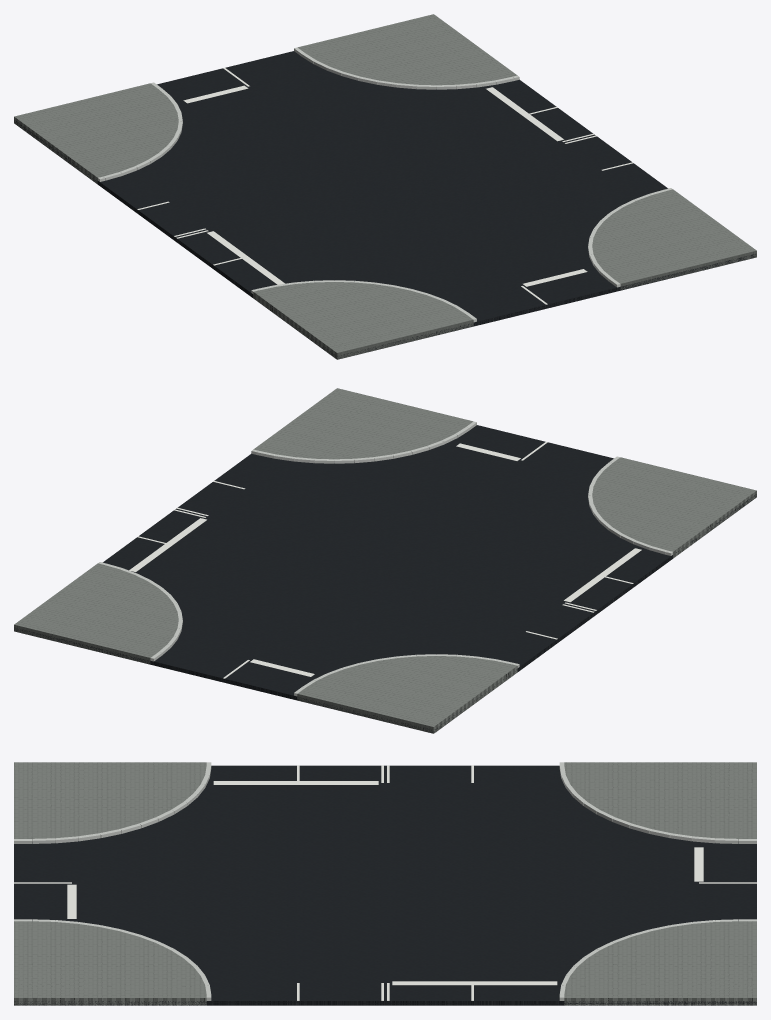
File: RK3_Cross_4x2_Plain_24x32m.glb
3 views of the same model, one above another, from view 1: azimuth 30°, elevation 25°; view 2: azimuth 150°, elevation 25°; view 3: azimuth 270°, elevation 25° (orthographic). The views are drawn at different scales.
Parts seen in each view (by area): view 1: Surface_Asphalt, Sidewalk_Paving, Curb_Concrete, Markings_White; view 2: Surface_Asphalt, Sidewalk_Paving, Curb_Concrete, Markings_White; view 3: Surface_Asphalt, Sidewalk_Paving, Curb_Concrete, Markings_White.
Part boxes in pixels (<box>): Surface_Asphalt: <box>14,51,756,358</box>; Sidewalk_Paving: <box>14,14,756,359</box>; Curb_Concrete: <box>98,47,672,322</box>; Markings_White: <box>137,67,633,304</box>; Surface_Asphalt: <box>14,425,756,732</box>; Sidewalk_Paving: <box>14,388,756,733</box>; Curb_Concrete: <box>98,421,672,696</box>; Markings_White: <box>129,441,641,678</box>; Surface_Asphalt: <box>14,765,756,1005</box>; Sidewalk_Paving: <box>14,762,756,1005</box>; Curb_Concrete: <box>14,762,756,1000</box>; Markings_White: <box>14,765,756,1000</box>.
Bounding box in the file's own units: 24 × 0.37 × 32.
4 materials, 2 textured.
